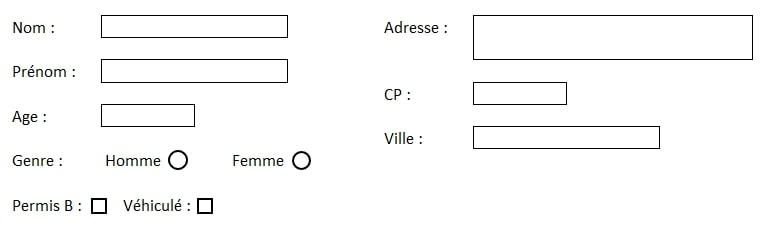input: (462, 9, 762, 67), (84, 5, 295, 49), (460, 118, 678, 156), (94, 55, 297, 91), (84, 92, 207, 137), (461, 76, 602, 110)
text: (4, 189, 86, 223), (368, 15, 460, 44), (119, 189, 194, 221), (99, 144, 164, 178), (370, 125, 437, 156), (6, 60, 82, 86), (226, 147, 289, 178), (374, 77, 424, 114), (6, 147, 68, 176), (7, 12, 60, 45), (9, 103, 56, 135)
